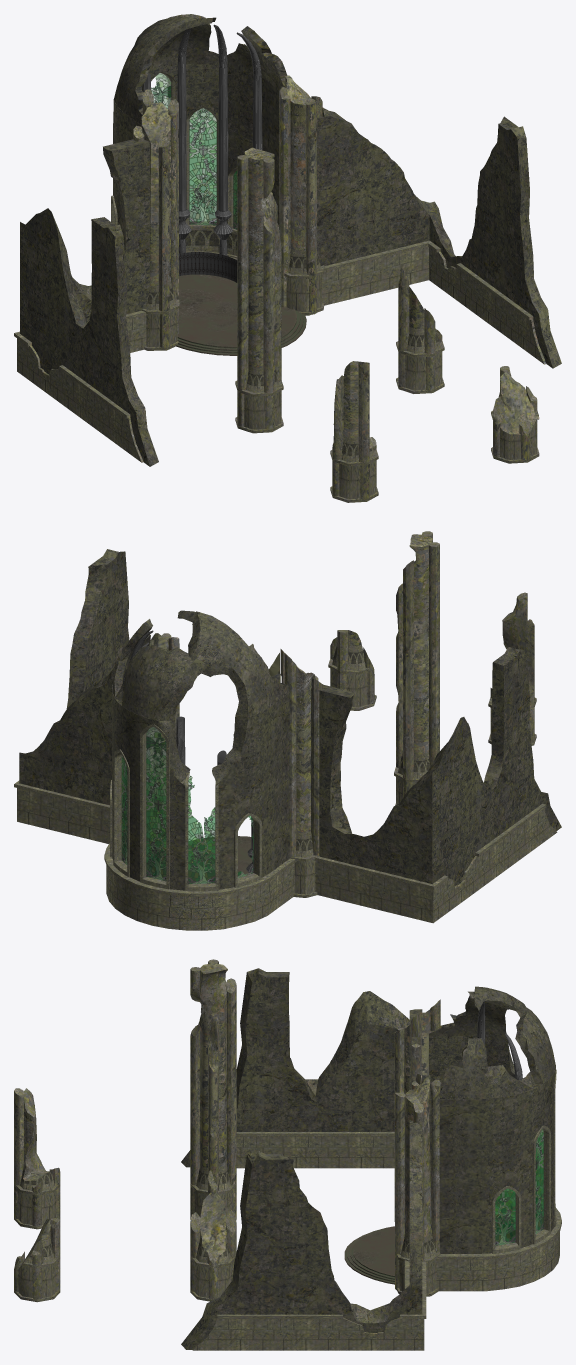
3 renders of one model, top to bottom at view 1: azimuth 30°, elevation 25°; view 2: azimuth 150°, elevation 25°; view 3: azimuth 270°, elevation 25°, orthographic. The views are drawn at different scales.
Parts seen in each view (by area): view 1: Apsis_Pillar_R.001; view 2: Apsis_Pillar_R.001; view 3: Apsis_Pillar_R.001.
Boxes of the visible parts, x1,y1,x2,y2 form: Apsis_Pillar_R.001: (14,14,561,502); Apsis_Pillar_R.001: (14,531,561,930); Apsis_Pillar_R.001: (14,959,561,1350).
Size of the model in its own units: 6.31 by 4.03 by 7.64.
Materials: 4 (4 with a texture image).
